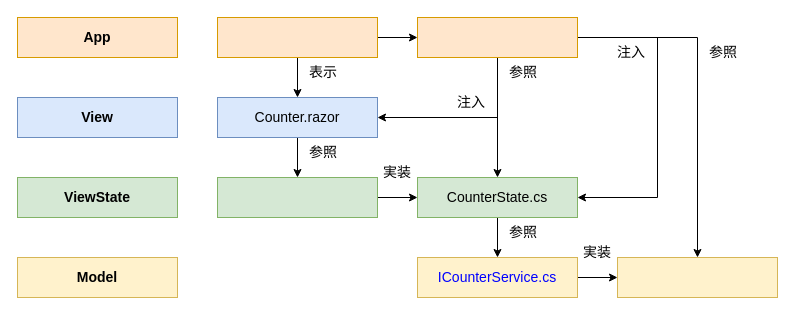
Some shapes in this 795 by 315 pixel diagram are drawn without their labels. Here are the shapes that lost their labels. From the top down, the centre of each, then its label:
the point at 297,37: Program.cs ( MainWindow )
the point at 497,37: AppServiceCollection Extensions.cs
the point at 297,197: ICounterState.cs
the point at 697,277: CounterService.cs
